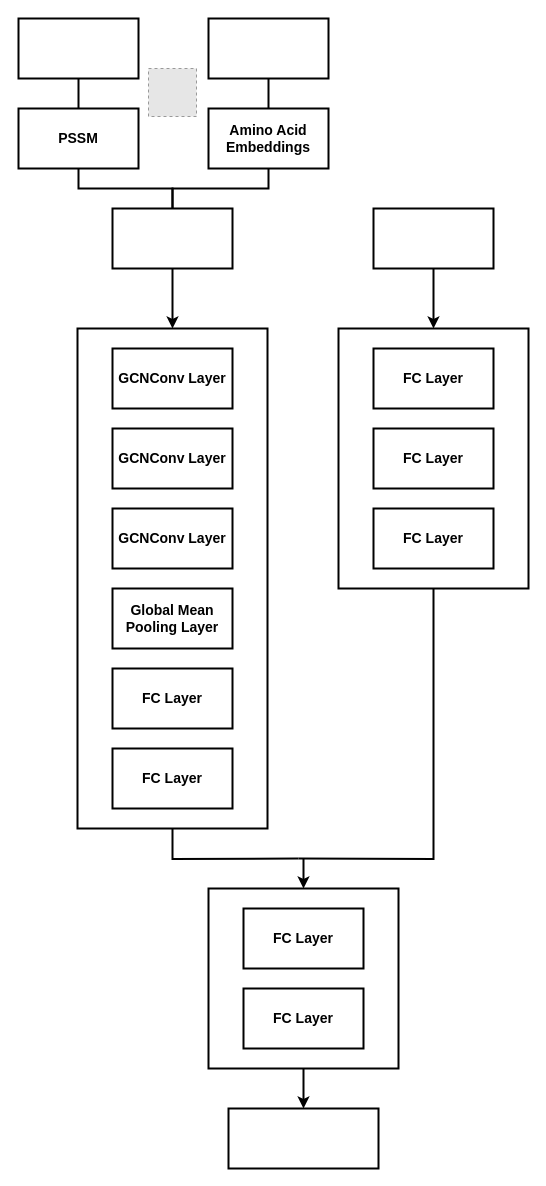
Image size: 546x1186. Some labels were removed from this diagram. Grey dashed boxes stand in for pictures. The shapes that lost their labels are listed below. From the top down, each one's centre as x and y in pixels, then its label:
At (x=78, y=48): "Protein Contact Map".
At (x=268, y=48): "Amino Acid Descriptors".
At (x=172, y=238): "Protein Graph".
At (x=433, y=238): "Drug & Protein Sequence Descriptors".
At (x=303, y=1138): "Binding Relationship/Afinity".
